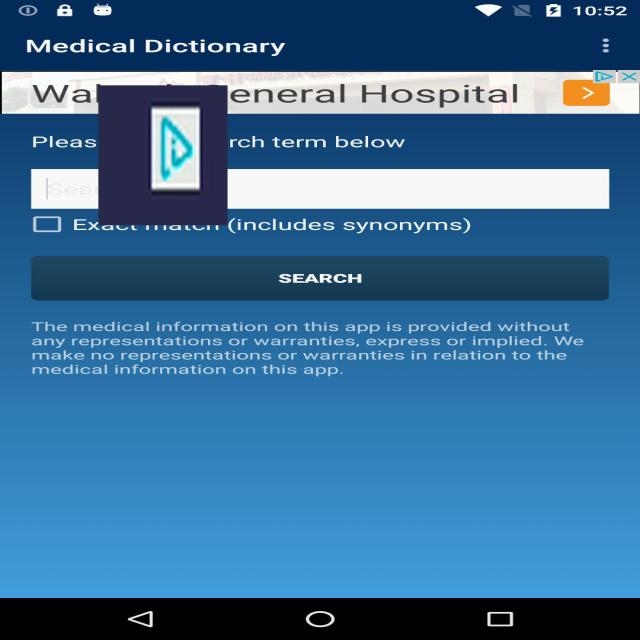sneaking: (99, 86, 228, 226)
